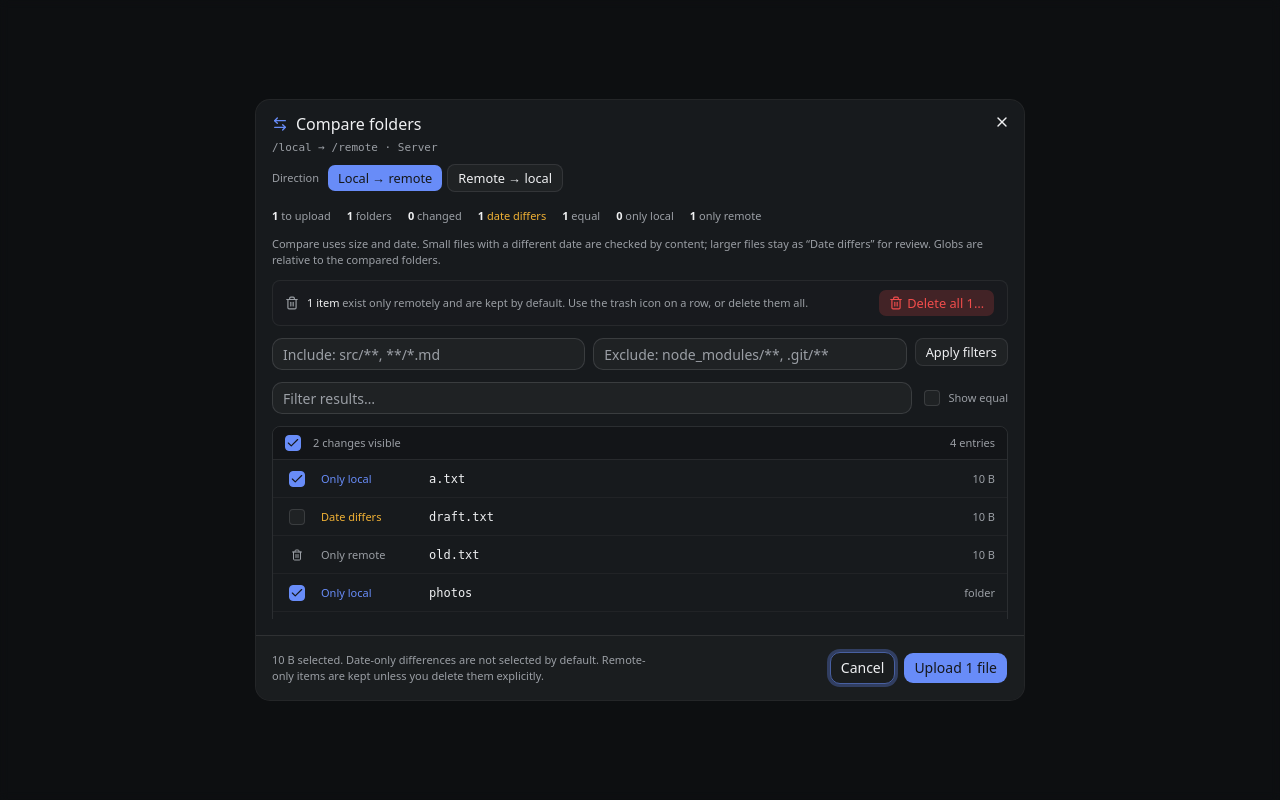
it: SyncCompareDialog › requires confirmation before deleting target-only items
The width and height of the screenshot is (1280, 800).
Later steps or results of the test are not shown.
What coordinates should you click on to do the following:
click the button named "Delete from remote: old.txt"
I would click on:
 (297, 554)
Its box is [285,542,309,566].
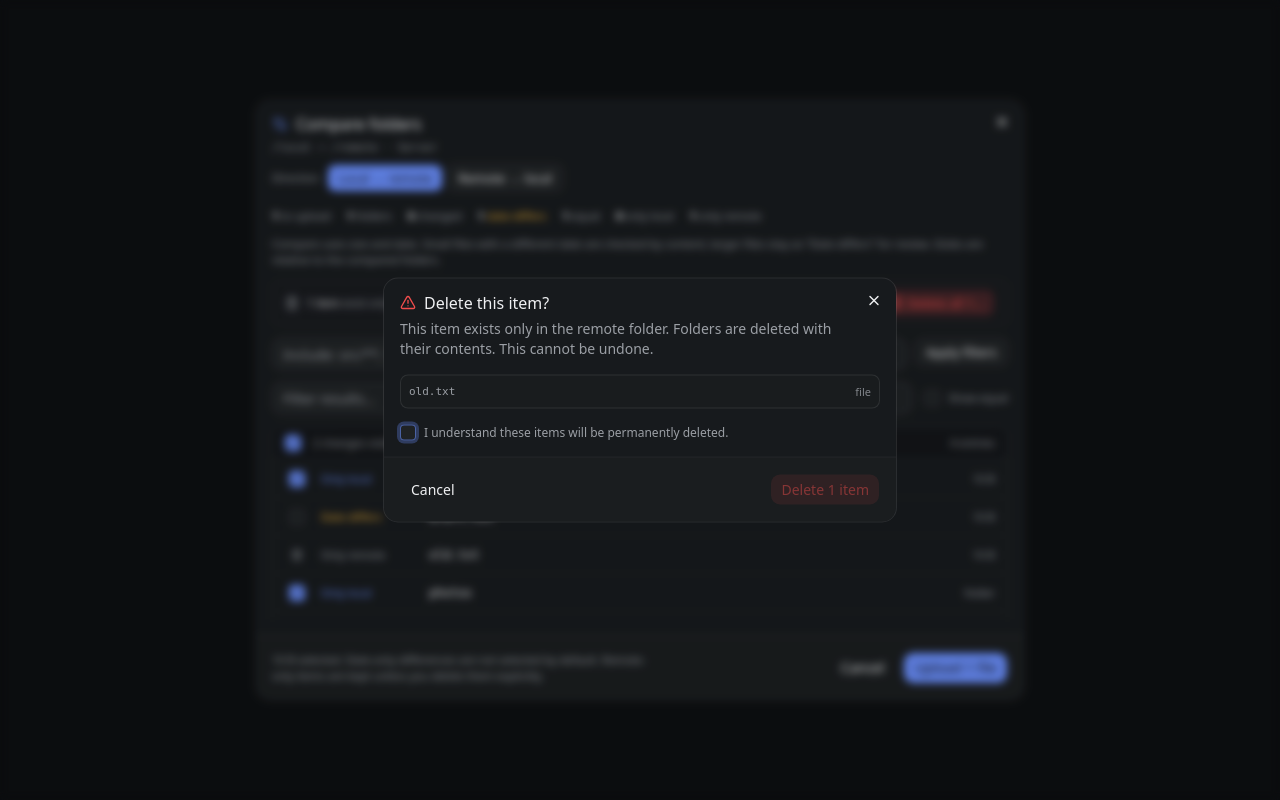
Expected: the button "Delete 1 item" is disabled, [770,474,880,506]
What coordinates should you click on to do the following:
click the checkbox named "I understand these items will be permanently deleted"
I would click on:
 (408, 432)
Its box is [400,424,416,440].
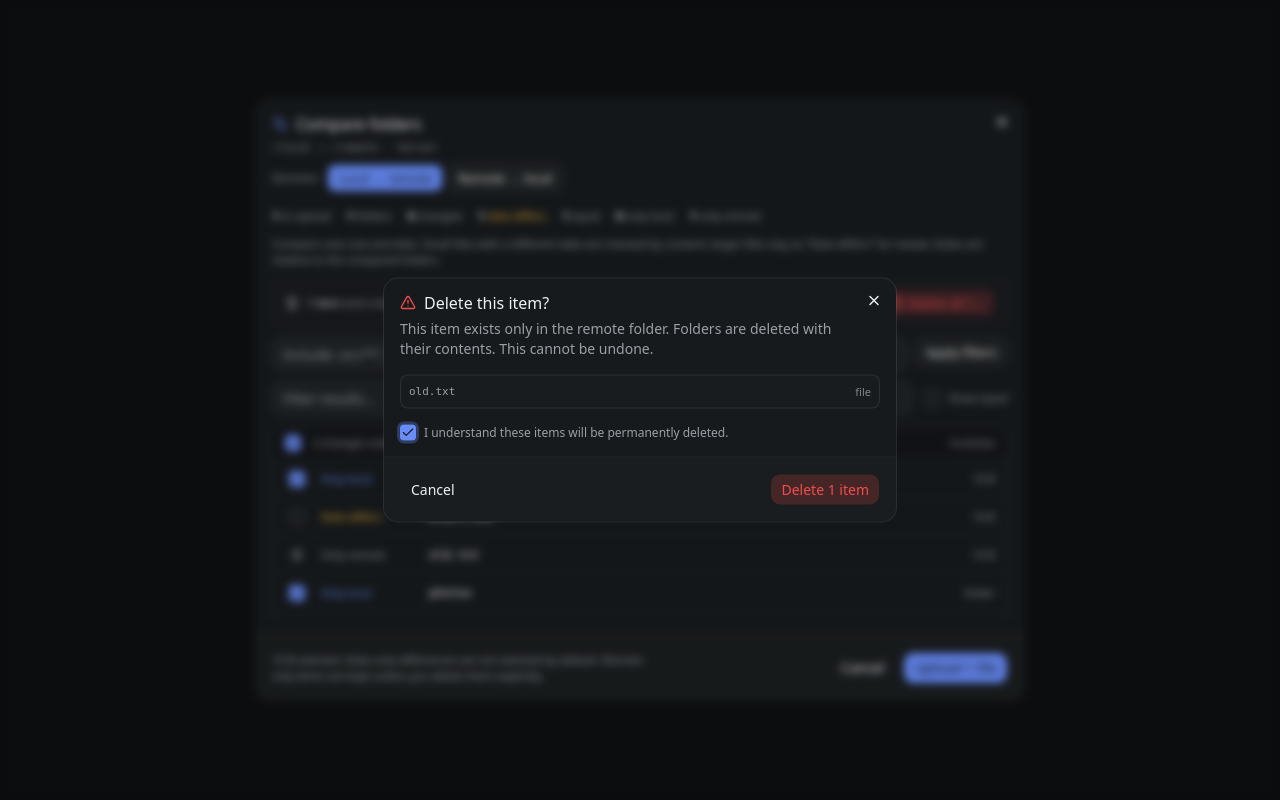
Expected: the button "Delete 1 item" is enabled, [770,474,880,506]
